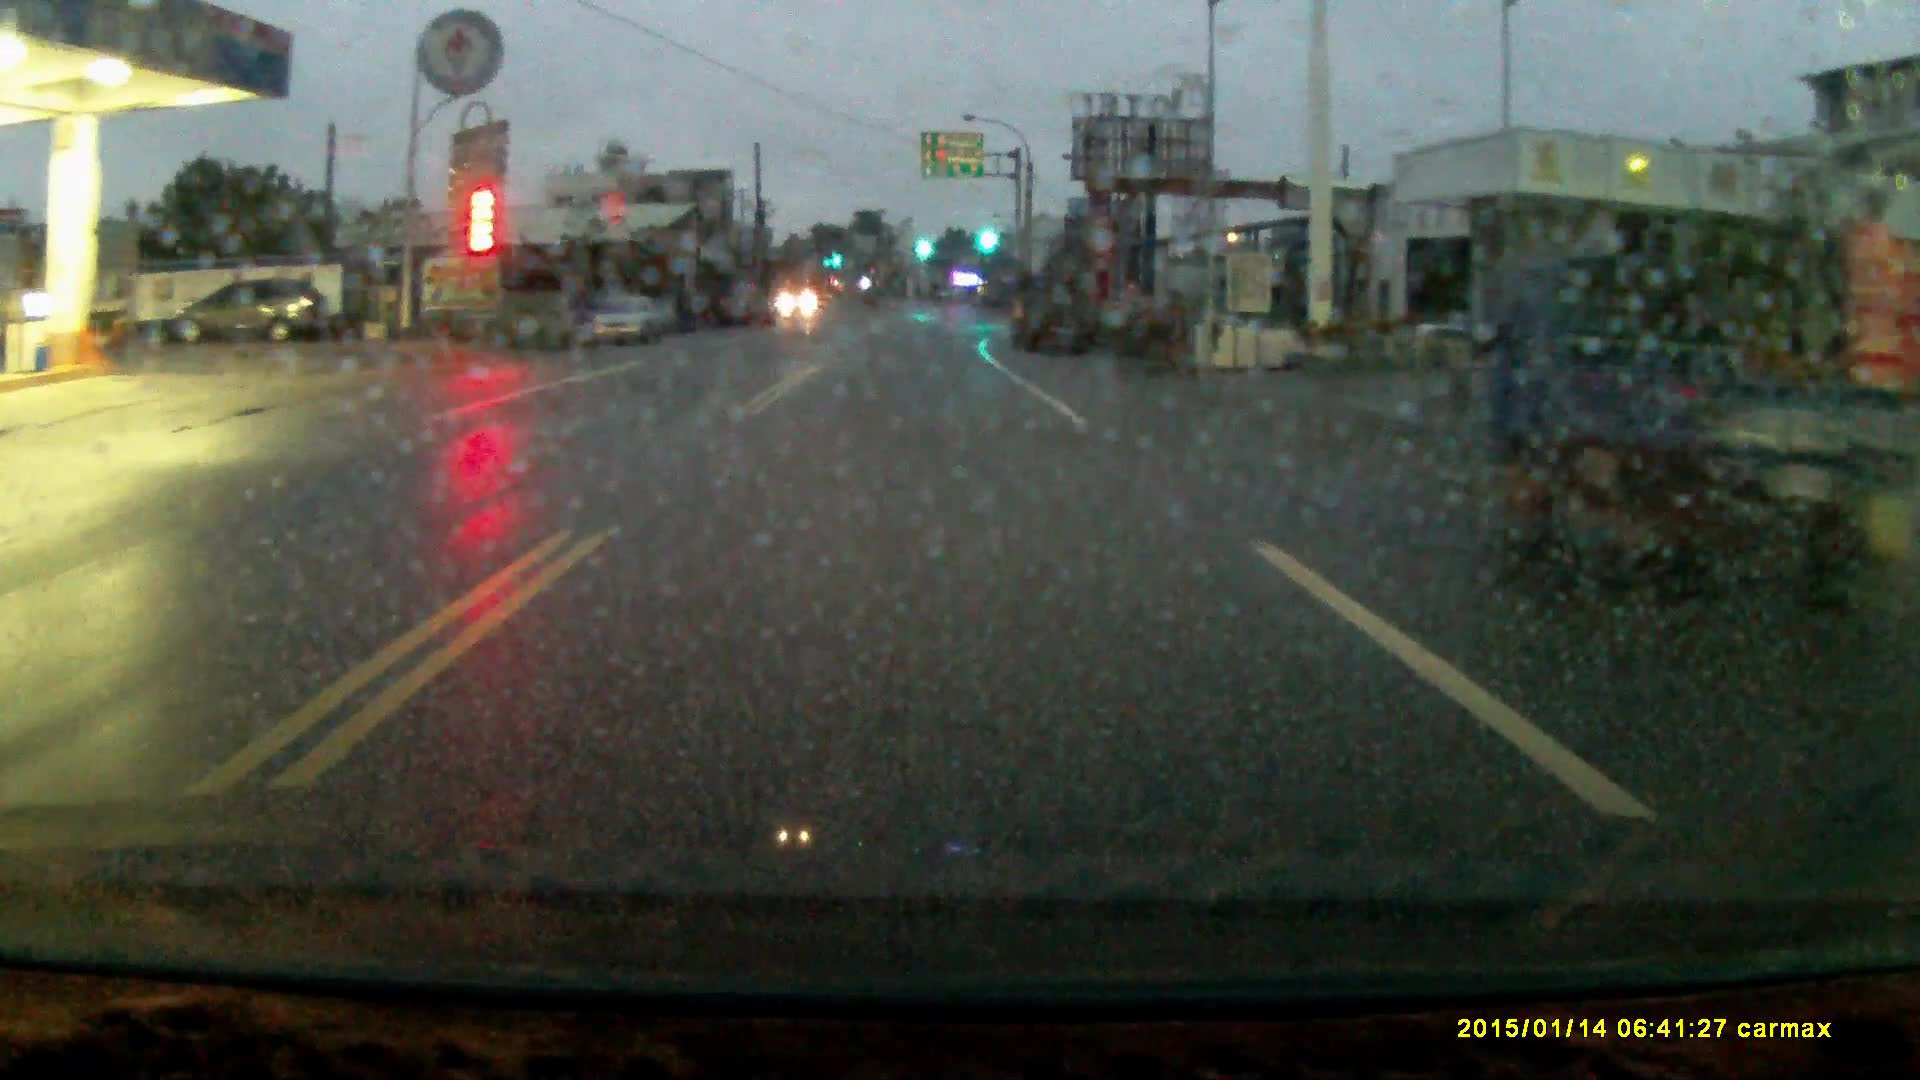rider: (559, 259, 606, 371)
vehicle: (1495, 263, 1855, 558), (167, 281, 333, 347), (1008, 268, 1103, 361), (586, 299, 685, 354)
